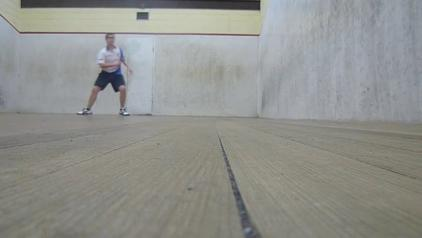walk: (84, 28, 133, 122)
